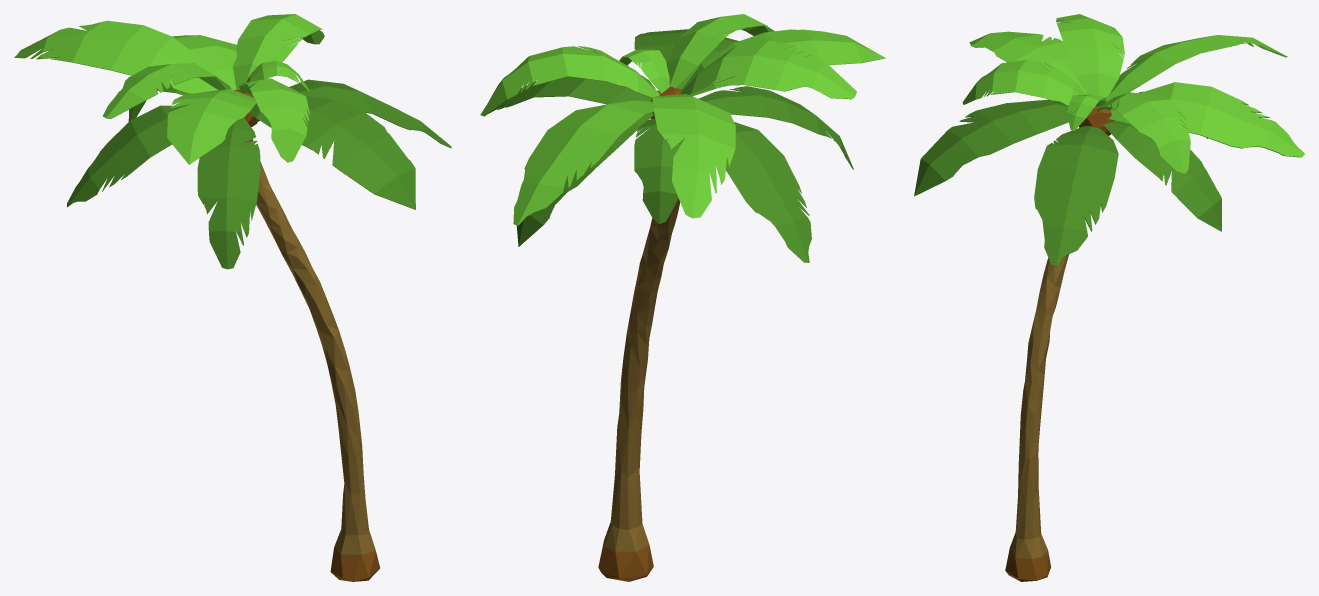
The model's file is palm_tree2.fbx.
The picture shows the model from 3 angles, left to right: view 1: azimuth 30°, elevation 25°; view 2: azimuth 150°, elevation 25°; view 3: azimuth 270°, elevation 25°; orthographic projection. The views are drawn at different scales.
Visible parts, largest first — view 1: palm_tree2_leaves, palm_tree2_body; view 2: palm_tree2_leaves, palm_tree2_body; view 3: palm_tree2_leaves, palm_tree2_body.
Boxes of the visible parts, left/top/right/bottom form: palm_tree2_leaves: left=14, top=14, right=451, bottom=269; palm_tree2_body: left=234, top=89, right=380, bottom=581; palm_tree2_leaves: left=480, top=14, right=885, bottom=262; palm_tree2_body: left=598, top=86, right=682, bottom=581; palm_tree2_leaves: left=914, top=14, right=1304, bottom=266; palm_tree2_body: left=1005, top=106, right=1114, bottom=581.
Bounding box in the file's own units: 3.84 × 5.66 × 4.18.
